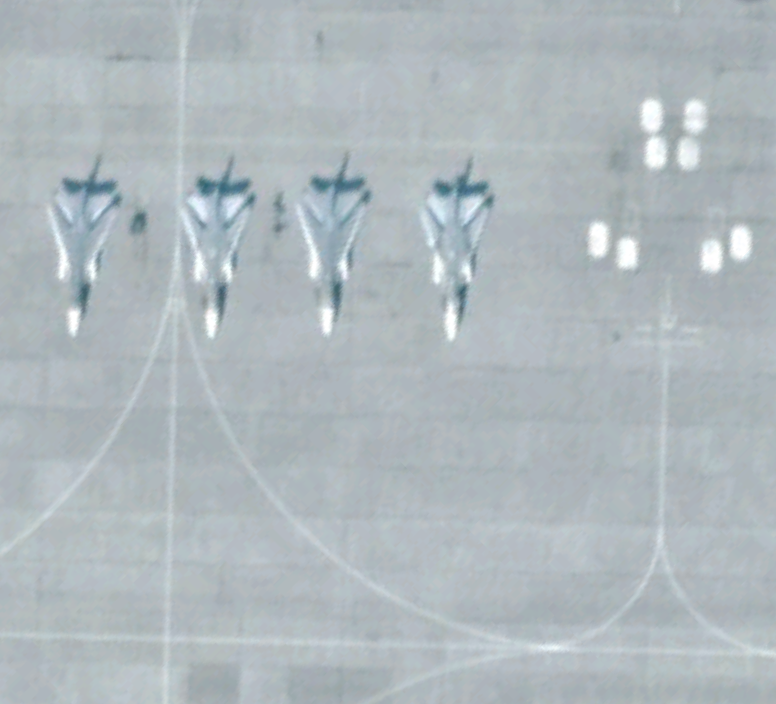A20: (410, 156, 501, 342), (290, 155, 373, 340), (174, 154, 255, 339), (41, 156, 122, 339)
